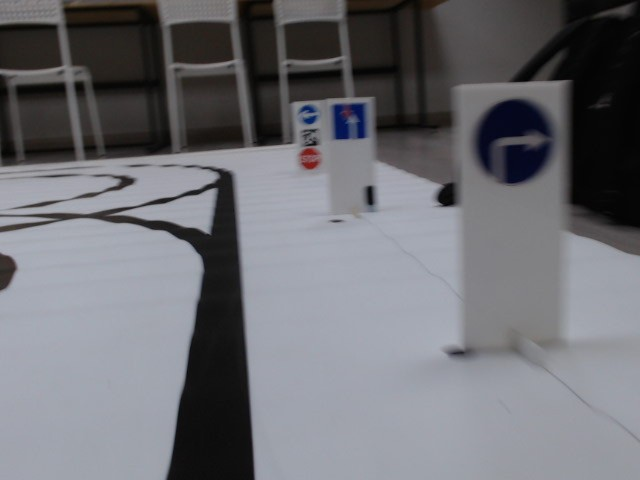Right: (469, 98, 556, 188)
Stop: (298, 148, 321, 169)
priority_movement: (331, 103, 370, 143)
